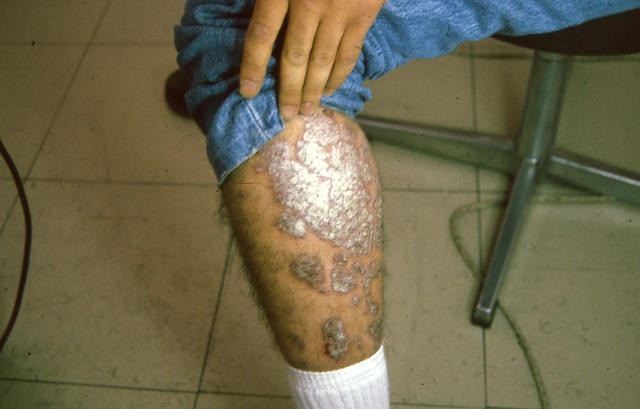Psoriasis: (252, 114, 386, 243), (353, 254, 392, 350), (286, 247, 333, 295), (316, 309, 352, 366), (329, 245, 353, 294)
